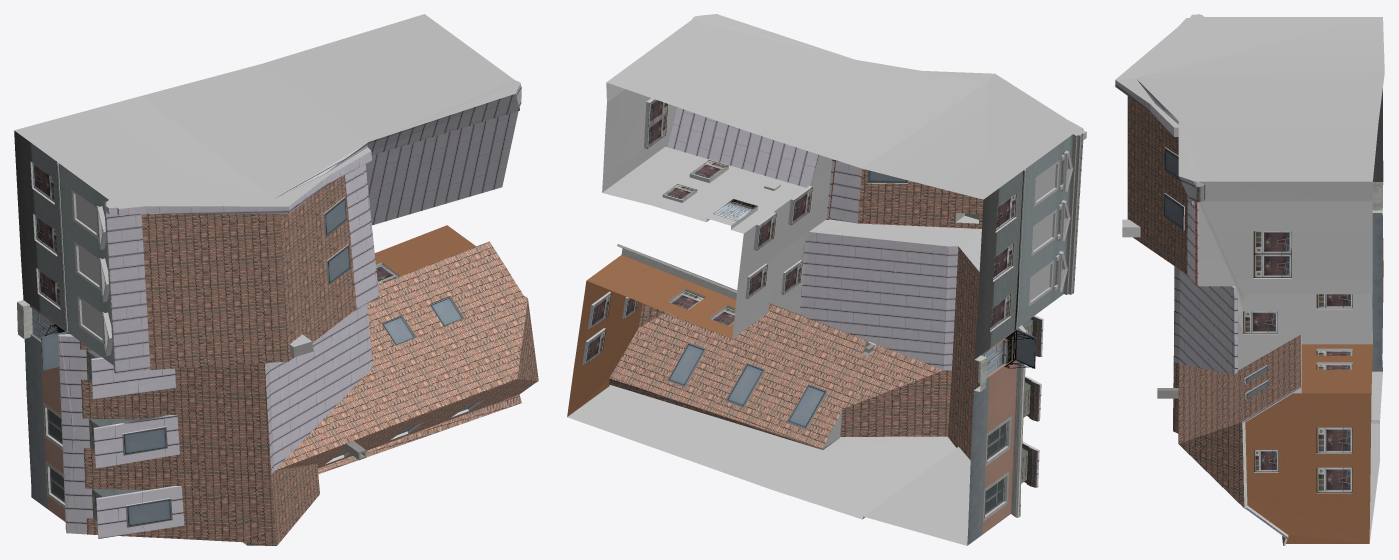
Rendered from Uus_30.obj.
3 views of the same model, side by side, from view 1: azimuth 30°, elevation 25°; view 2: azimuth 150°, elevation 25°; view 3: azimuth 270°, elevation 25° (orthographic). The views are drawn at different scales.
Parts seen in each view (by area): view 1: Uus_30; view 2: Uus_30; view 3: Uus_30.
Part boxes in pixels (x1,y1,x2,y2): Uus_30: (14,14,538,545); Uus_30: (567,14,1086,545); Uus_30: (1115,14,1384,545).
Bounding box in the file's own units: 22.76 × 18.28 × 12.14.
